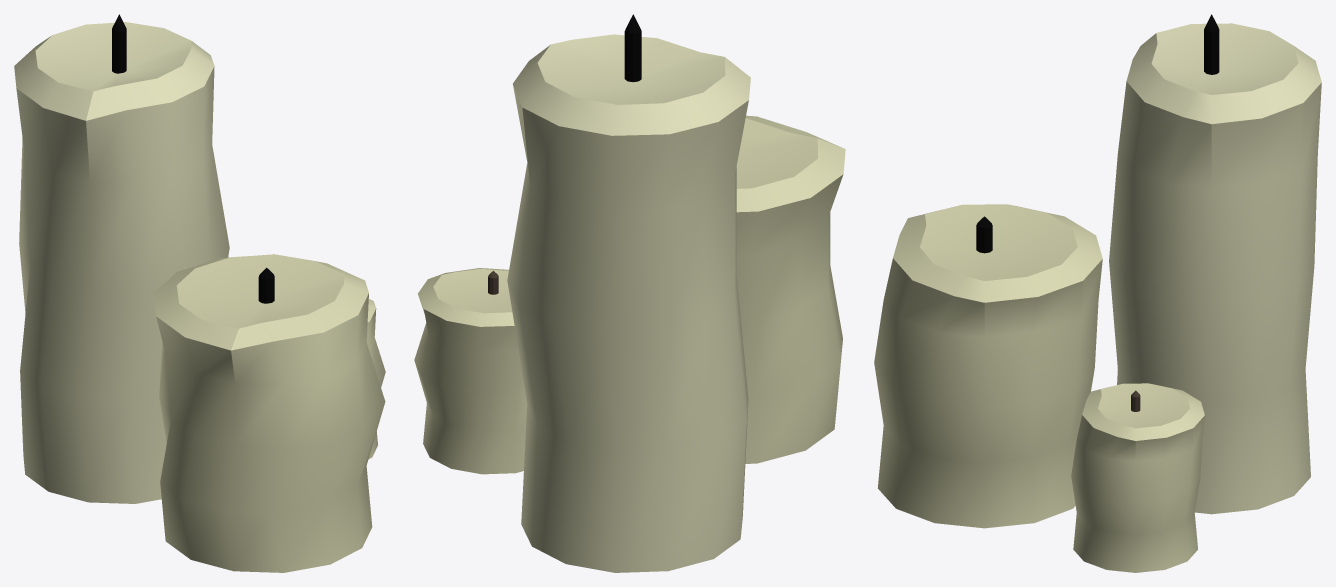
File: Kaarsen.fbx
3 renders of one model, left to right at view 1: azimuth 30°, elevation 25°; view 2: azimuth 150°, elevation 25°; view 3: azimuth 270°, elevation 25°, orthographic. The views are drawn at different scales.
Visible parts, largest first — view 1: polySurface358; view 2: polySurface358; view 3: polySurface358.
Part boxes in pixels (bbox=[...]): polySurface358: bbox=[14, 14, 385, 572]; polySurface358: bbox=[414, 14, 845, 572]; polySurface358: bbox=[874, 14, 1321, 572].
Bounding box in the file's own units: 0.214 × 0.2966 × 0.2628.
